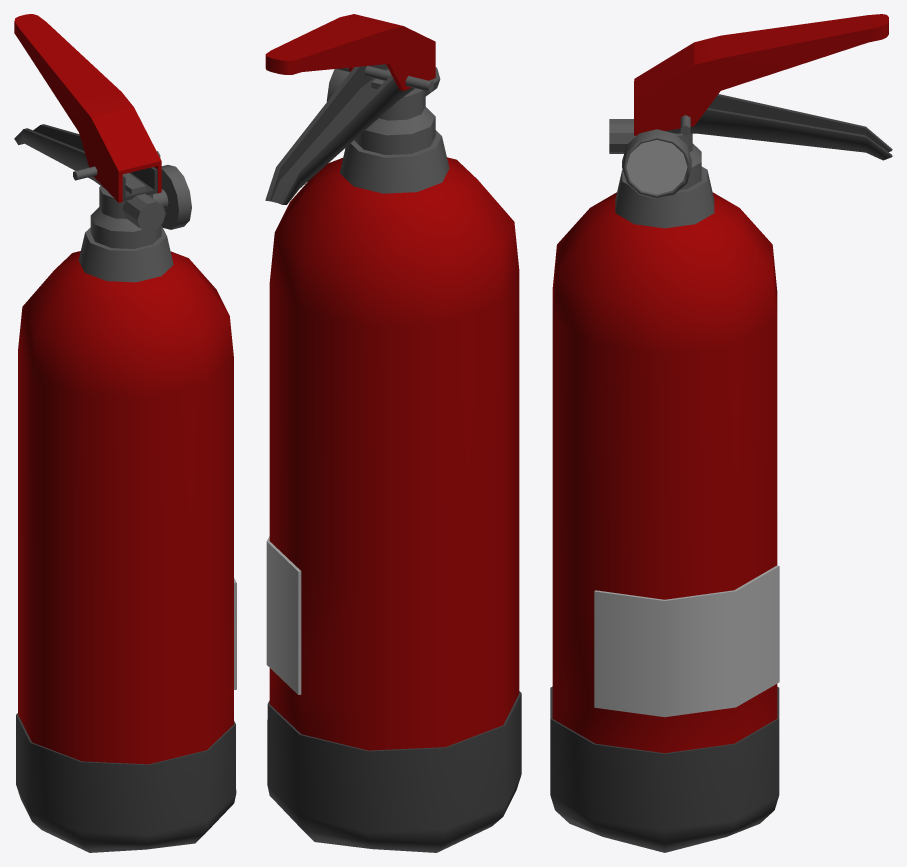
File: ExtinguiserPowderR.fbx
The picture shows the model from 3 angles, left to right: view 1: azimuth 30°, elevation 25°; view 2: azimuth 150°, elevation 25°; view 3: azimuth 270°, elevation 25°; orthographic projection. The views are drawn at different scales.
Parts seen in each view (by area): view 1: ExtinguiserPowder_LP; view 2: ExtinguiserPowder_LP; view 3: ExtinguiserPowder_LP.
Part boxes in pixels (x1,y1,x2,y2): ExtinguiserPowder_LP: (14,14,236,852); ExtinguiserPowder_LP: (265,14,521,852); ExtinguiserPowder_LP: (550,14,892,852).
Size of the model in its own units: 17.48 by 63.19 by 24.78.
